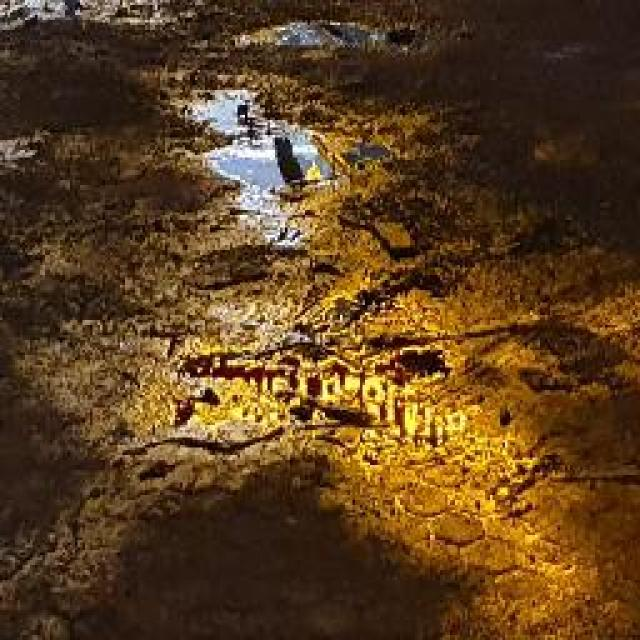puddle: (178, 91, 392, 196)
